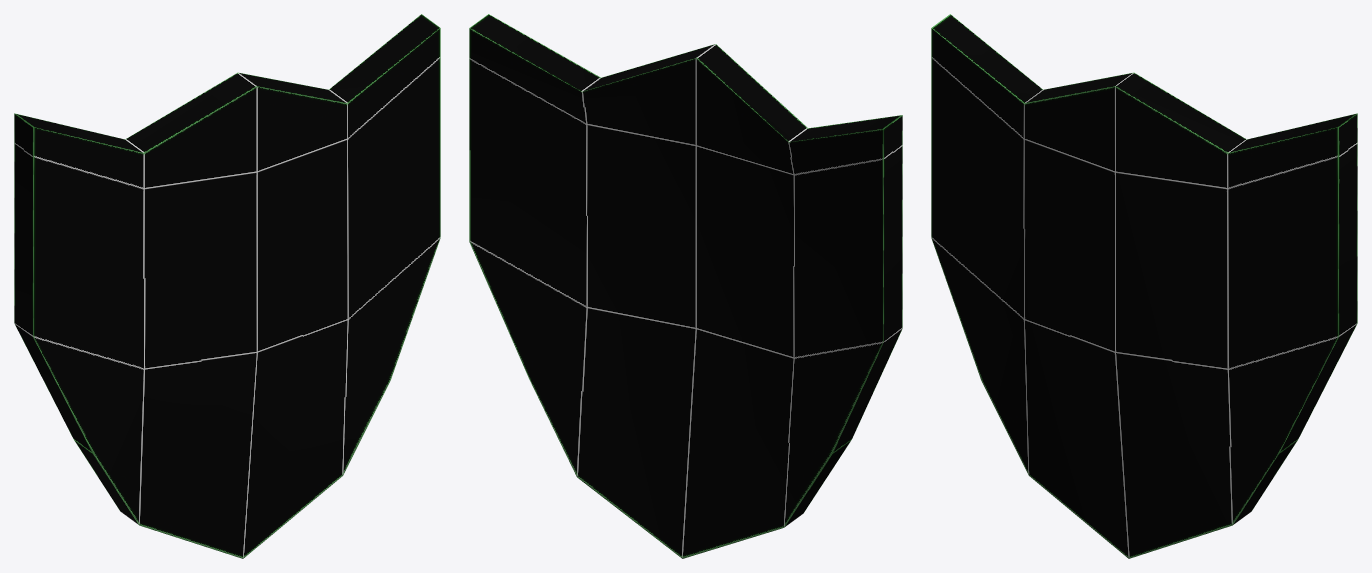
Rendered from shield.FBX.
3 views of the same model, side by side, from view 1: azimuth 30°, elevation 25°; view 2: azimuth 150°, elevation 25°; view 3: azimuth 330°, elevation 25° (orthographic).
Parts seen in each view (by area): view 1: Box001; view 2: Box001; view 3: Box001.
Part boxes in pixels (x1,y1,x2,y2): Box001: [14, 14, 440, 558]; Box001: [469, 14, 902, 558]; Box001: [931, 14, 1357, 558].
Size of the model in its own units: 30 by 33.97 by 4.97.
